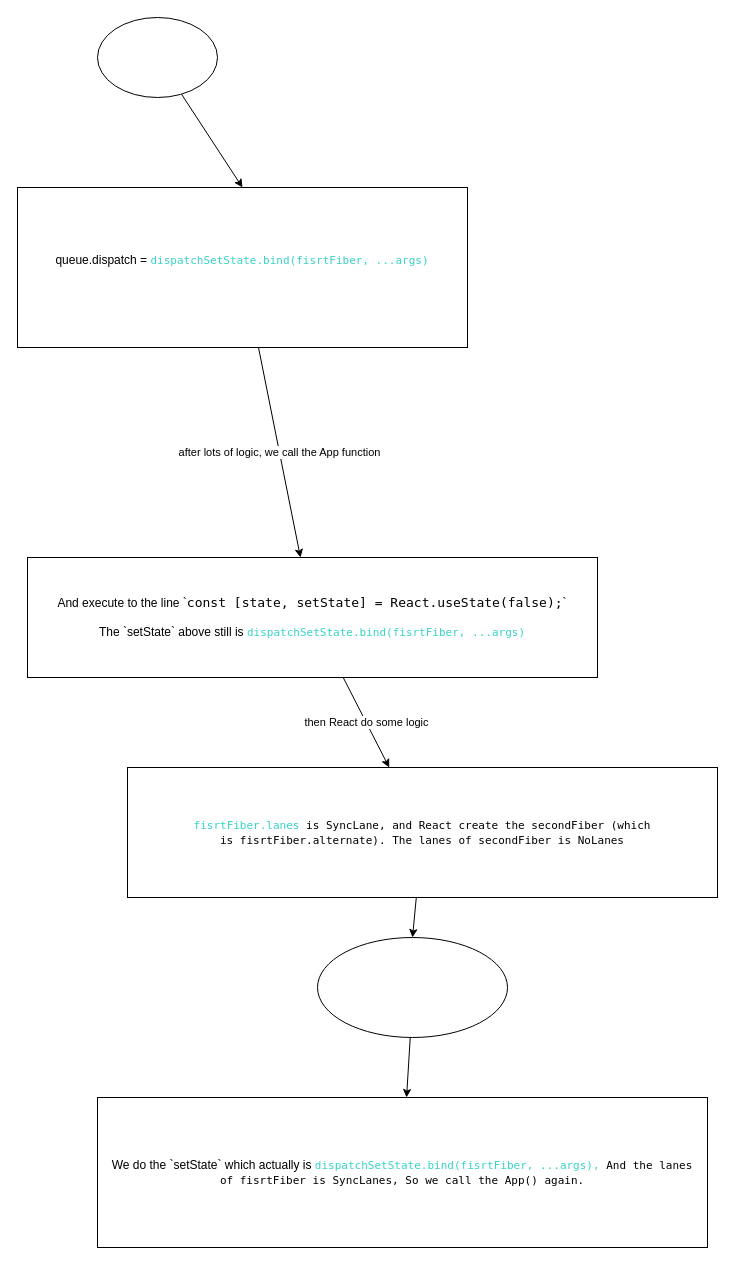
The diagram is 735 pixels wide and 1265 high, and some of its shapes have lost their labels. The centre of each missing label's shape, as x and y in pixels:
First Click: the point at 157,57
Second Click: the point at 412,987
